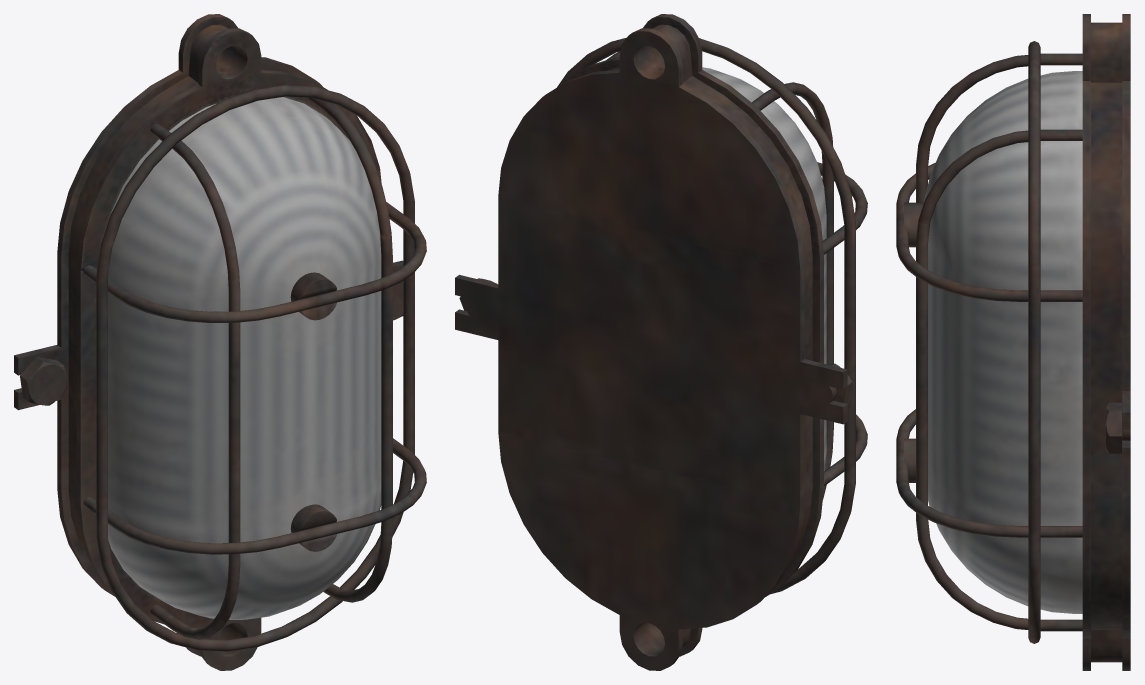
The model's file is detail.fbx.
The picture shows the model from 3 angles, left to right: view 1: azimuth 30°, elevation 25°; view 2: azimuth 150°, elevation 25°; view 3: azimuth 270°, elevation 25°; orthographic projection.
Visible parts, largest first — view 1: industrial_wall_lamp; view 2: industrial_wall_lamp; view 3: industrial_wall_lamp.
Boxes of the visible parts, x1=… form: industrial_wall_lamp: x1=14, y1=14, x2=426, y2=670; industrial_wall_lamp: x1=455, y1=14, x2=867, y2=670; industrial_wall_lamp: x1=896, y1=14, x2=1130, y2=670.
Bounding box in the file's own units: 27.35 × 42.99 × 14.04.
